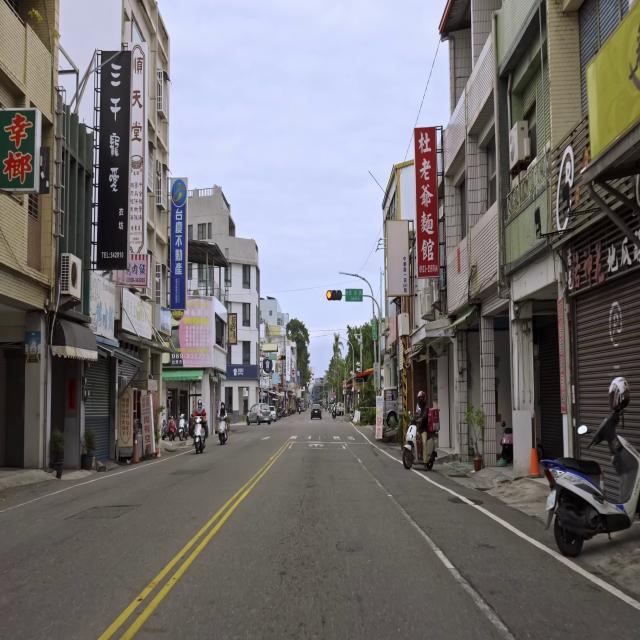red light: (326, 290, 343, 301), (278, 354, 286, 360)
